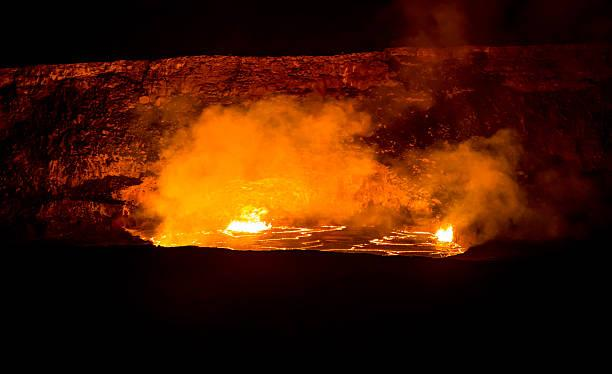Fire: (228, 185, 283, 238), (427, 209, 472, 257)
